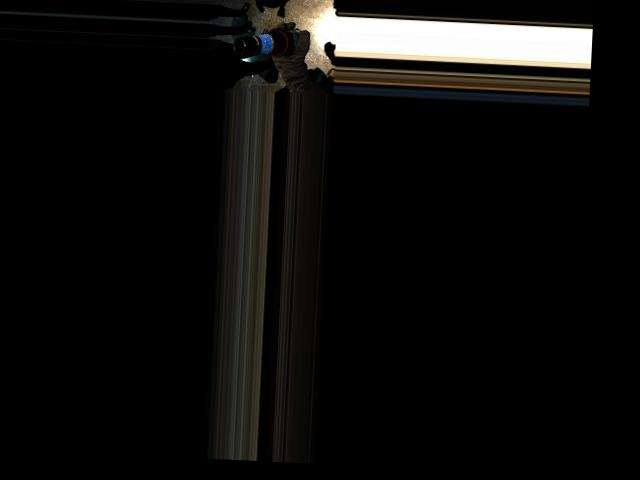beer: (233, 24, 306, 59)
